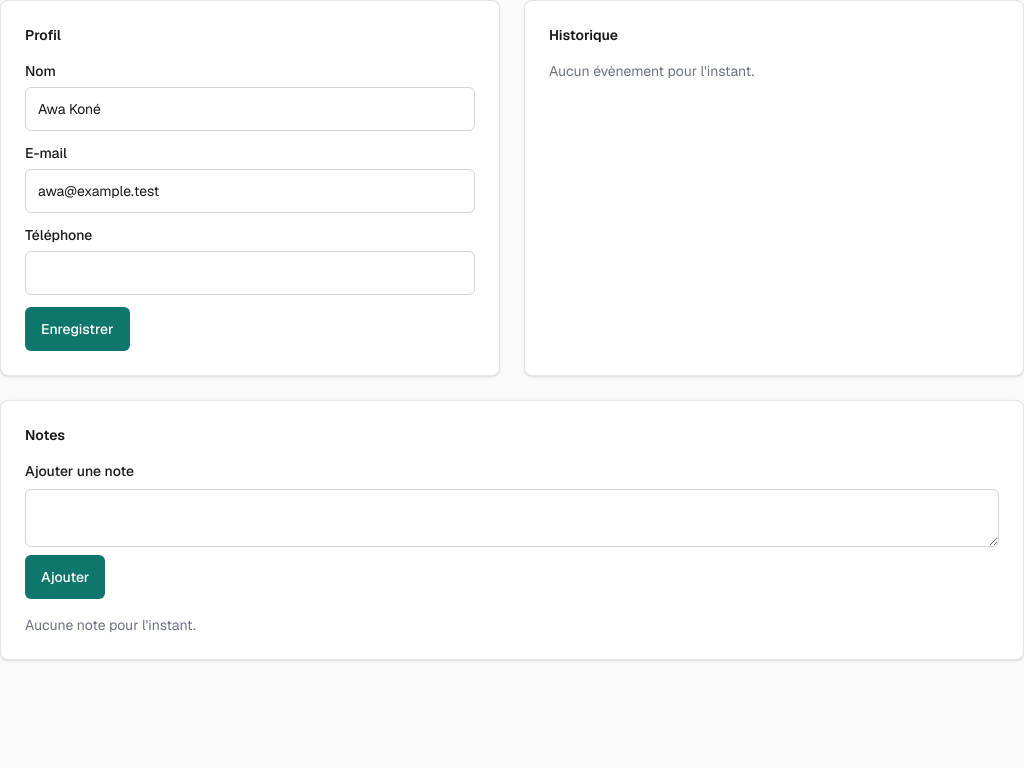
Test: ContactDetailPage › ajoute une note
Expected: the field showing "Awa Koné" is shown, left=25, top=87, right=475, bottom=131
Type "Nouvelle note." into the text box labelled "Ajouter une note".
click(512, 518); type("Nouvelle note.")  # box left=25, top=489, right=999, bottom=547
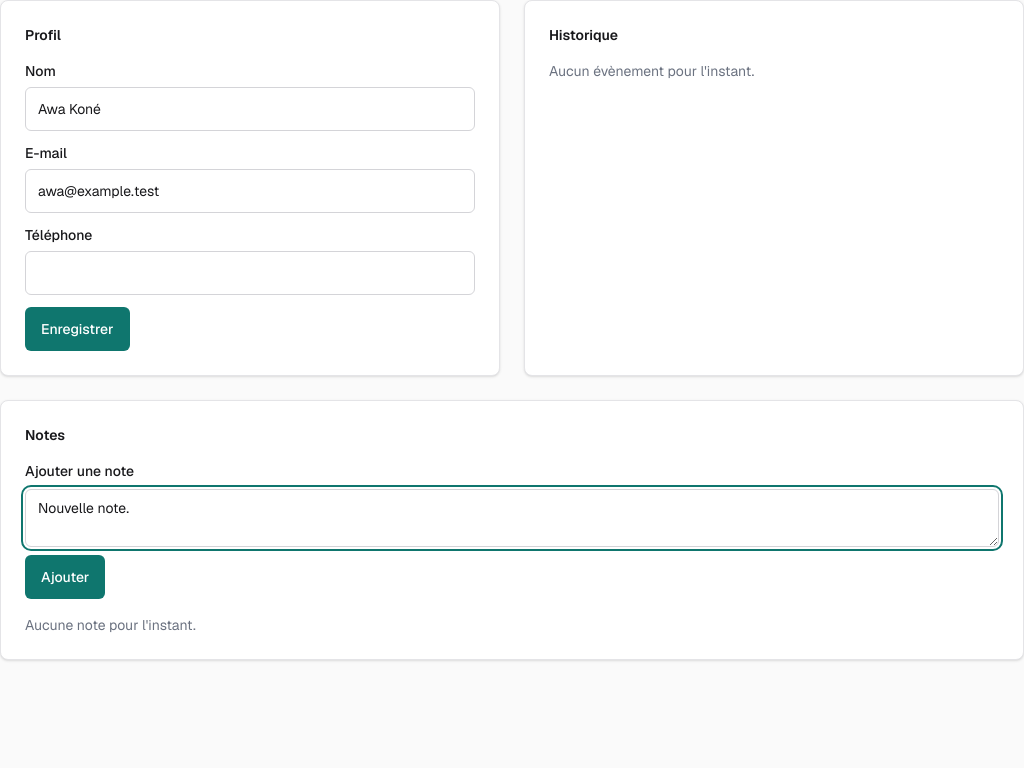
Click the button "Ajouter".
click(65, 577)  # box left=25, top=555, right=105, bottom=599
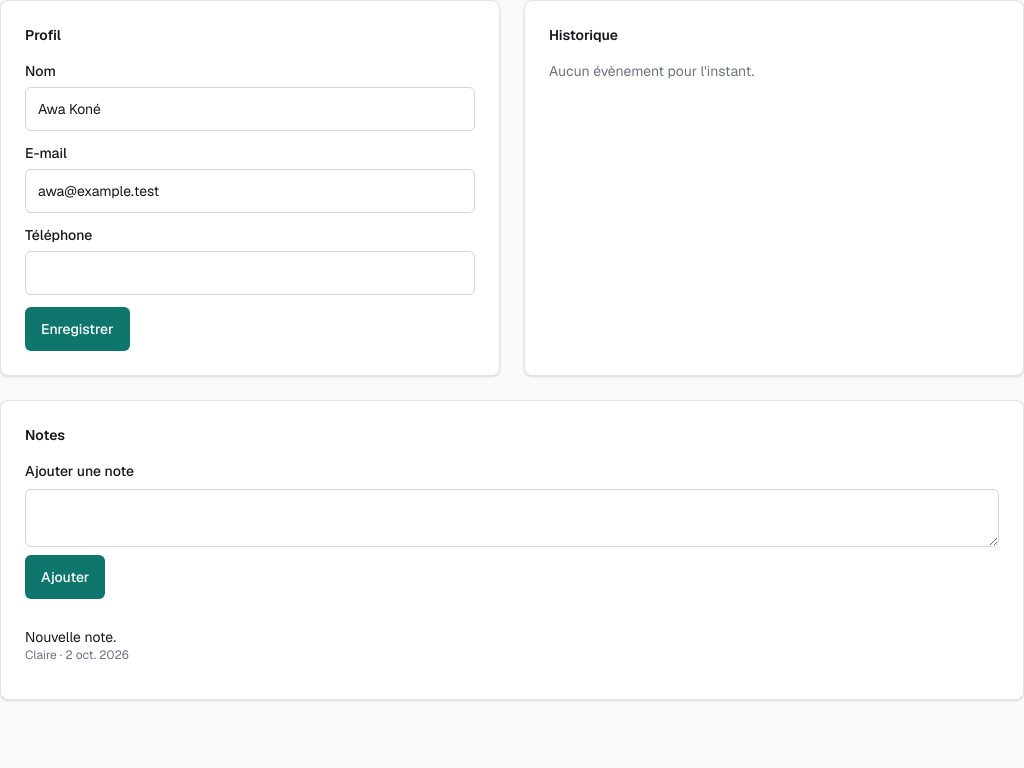
Now the text "Nouvelle note." is shown, box left=25, top=628, right=116, bottom=646
